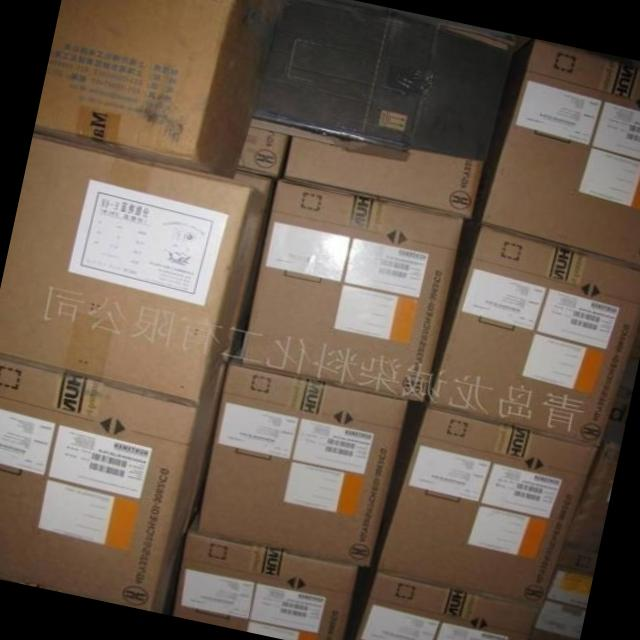box: (0, 135, 269, 409), (0, 356, 216, 611), (239, 180, 467, 403), (428, 219, 640, 445), (195, 349, 410, 566), (34, 0, 283, 180), (375, 408, 597, 606), (473, 71, 640, 267), (173, 513, 364, 640), (284, 126, 483, 220), (351, 569, 538, 640), (543, 440, 620, 611), (500, 41, 640, 103), (235, 118, 294, 178), (526, 599, 585, 640), (226, 167, 279, 199)
